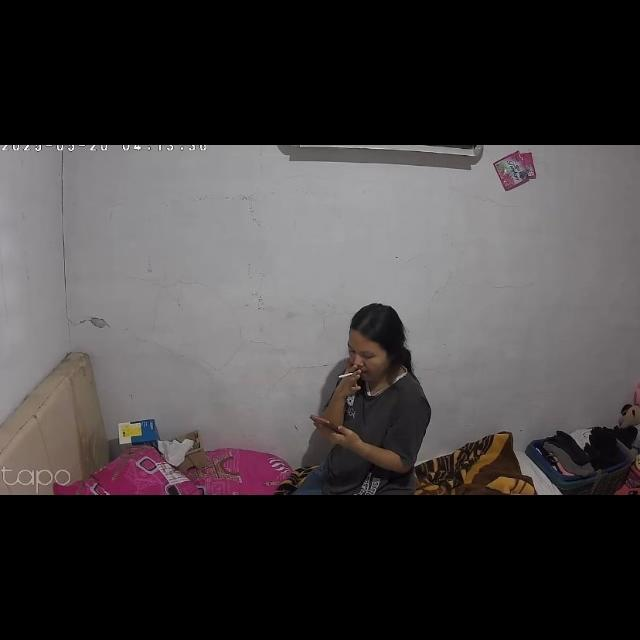rokok: (336, 372, 356, 378)
